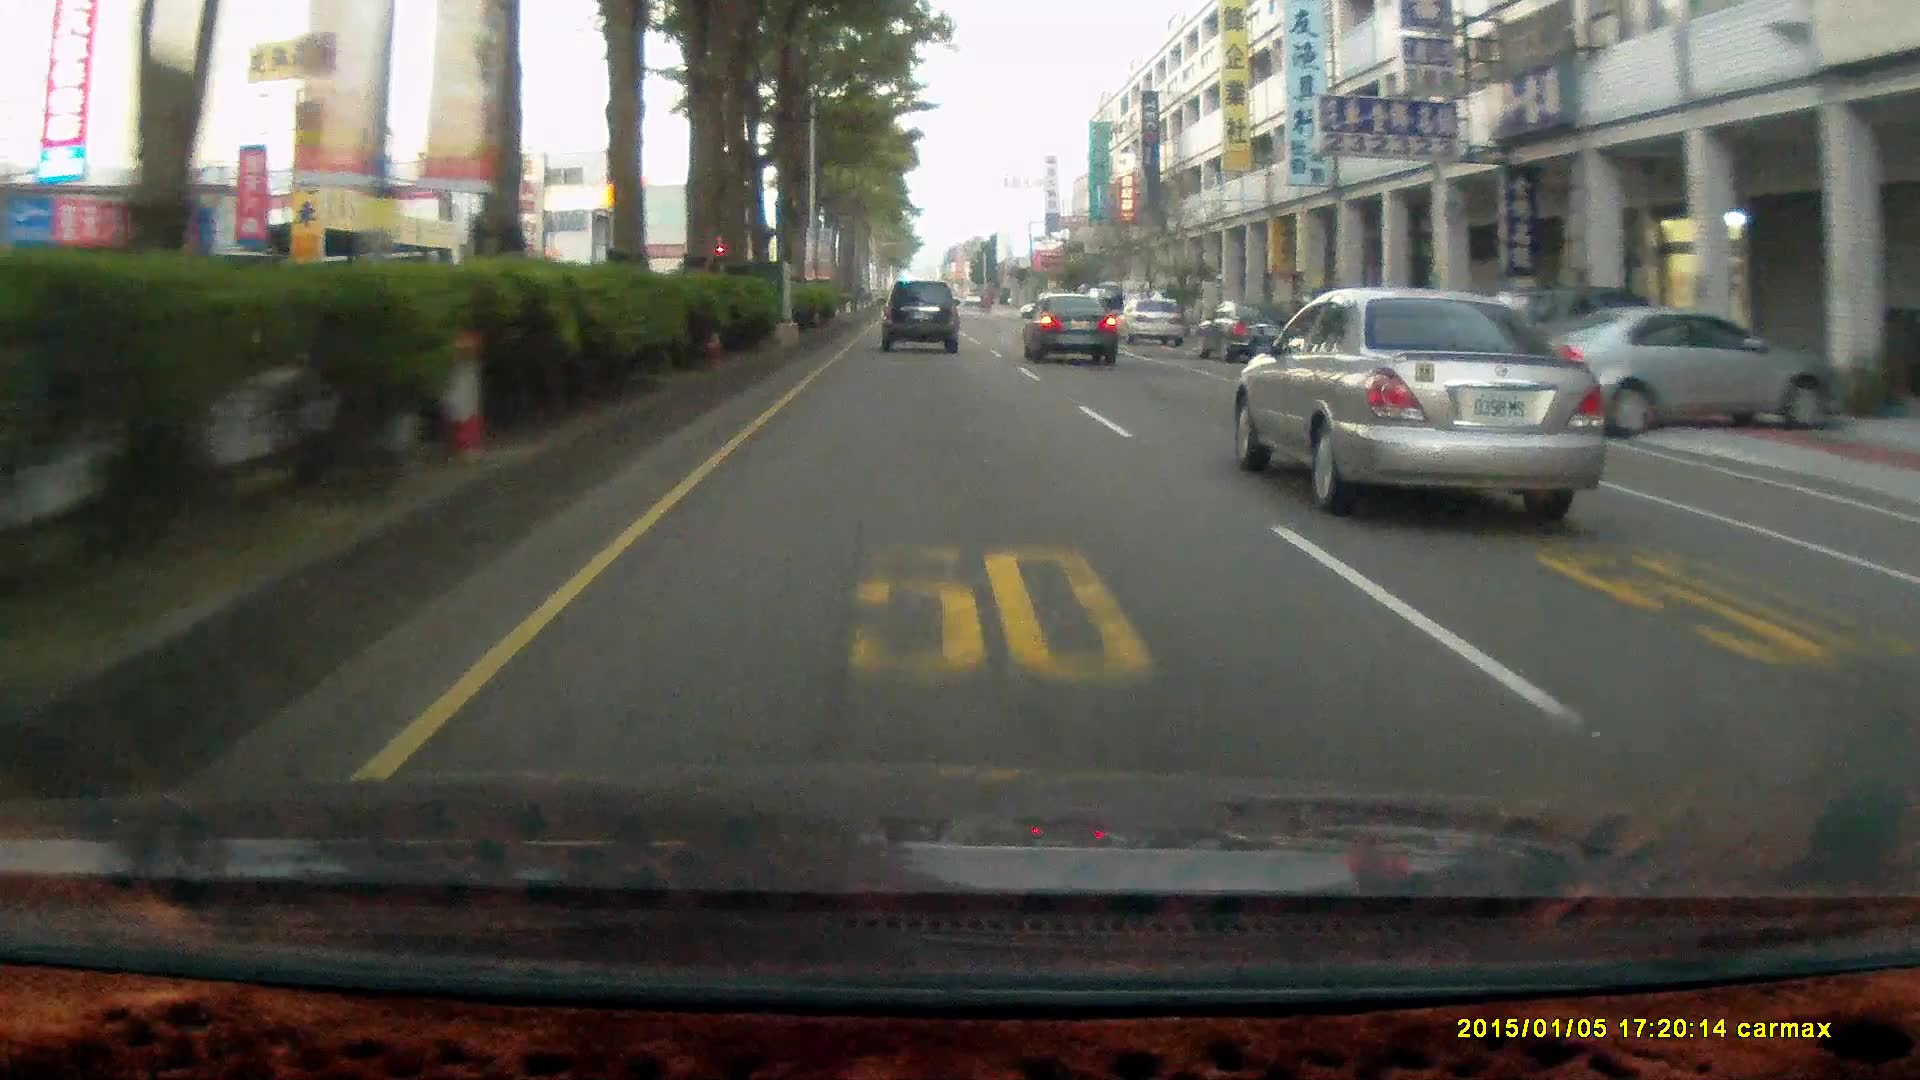vehicle: (1226, 286, 1621, 522), (1499, 305, 1858, 435), (1510, 303, 1840, 433), (1193, 295, 1305, 363), (1021, 291, 1116, 367), (1025, 295, 1124, 367), (880, 280, 963, 356), (877, 278, 960, 349), (1112, 295, 1185, 345), (1122, 297, 1188, 347)
